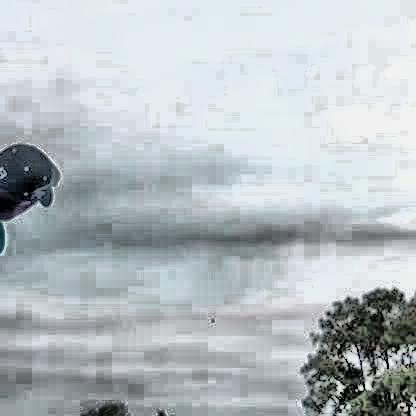golfball: (206, 315, 213, 321)
